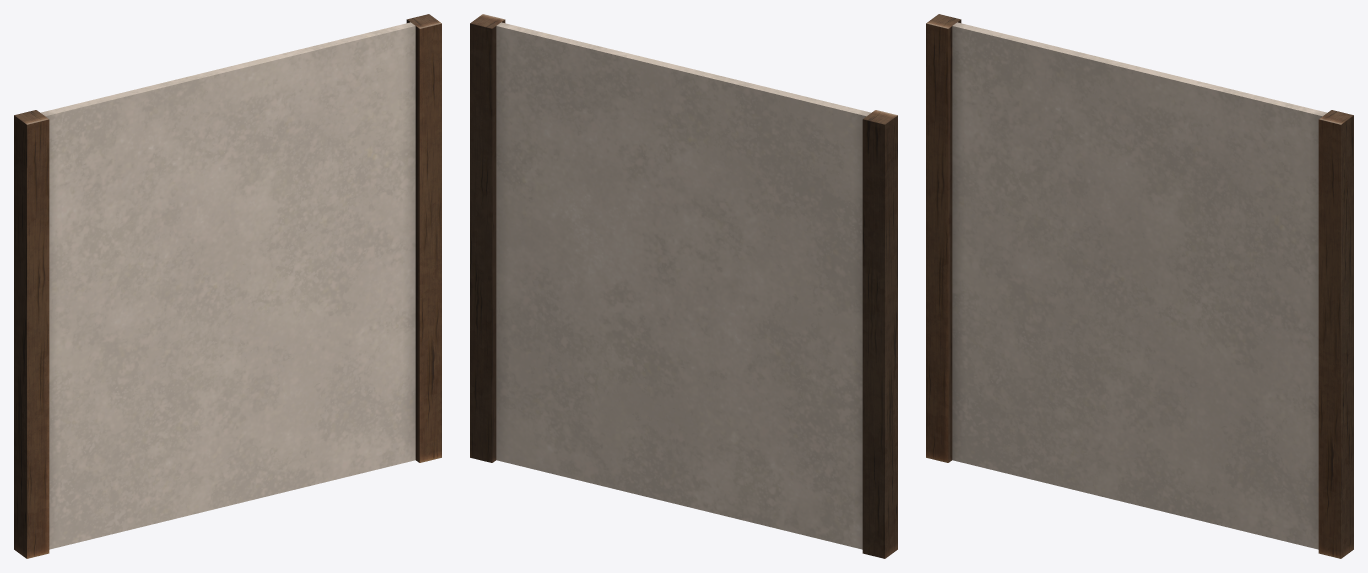
File: Wall_F.fbx
The picture shows the model from 3 angles, left to right: view 1: azimuth 30°, elevation 25°; view 2: azimuth 150°, elevation 25°; view 3: azimuth 330°, elevation 25°; orthographic projection.
Visible parts, largest first — view 1: Wall_F; view 2: Wall_F; view 3: Wall_F.
Part boxes in pixels (x1,y1,x2,y2): Wall_F: (14, 14, 441, 558); Wall_F: (470, 14, 897, 558); Wall_F: (926, 14, 1353, 558).
Size of the model in its own units: 400 by 400 by 21.45.
